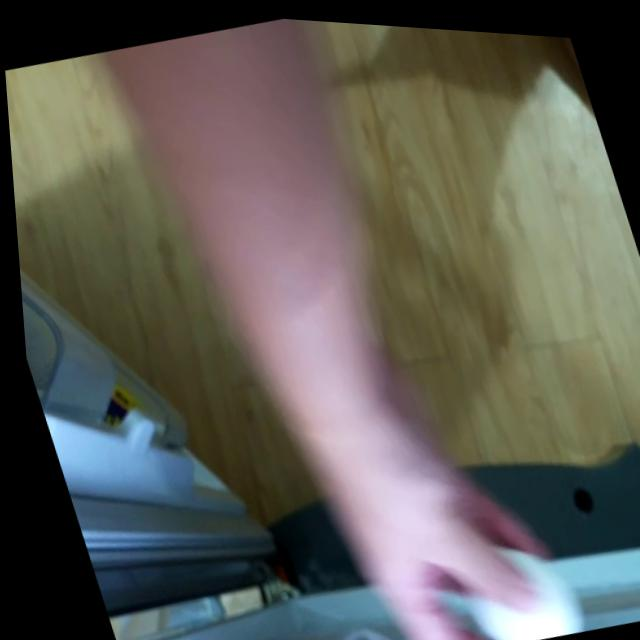egg: (462, 534, 574, 640)
